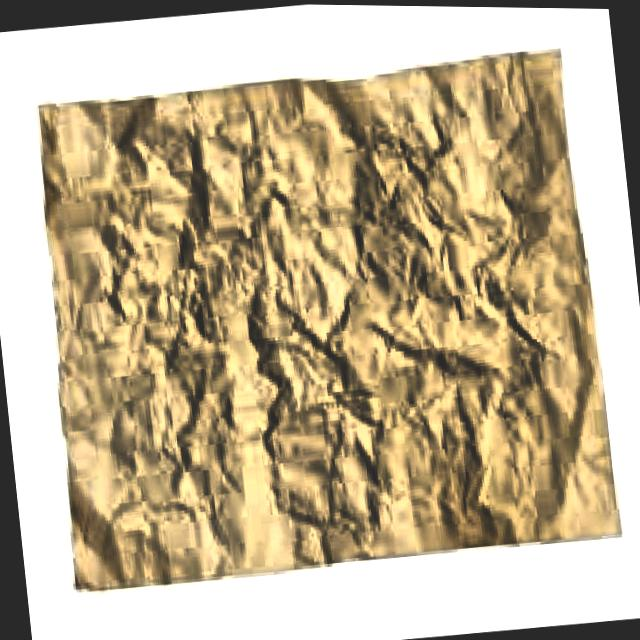Paper: (18, 30, 619, 593)
